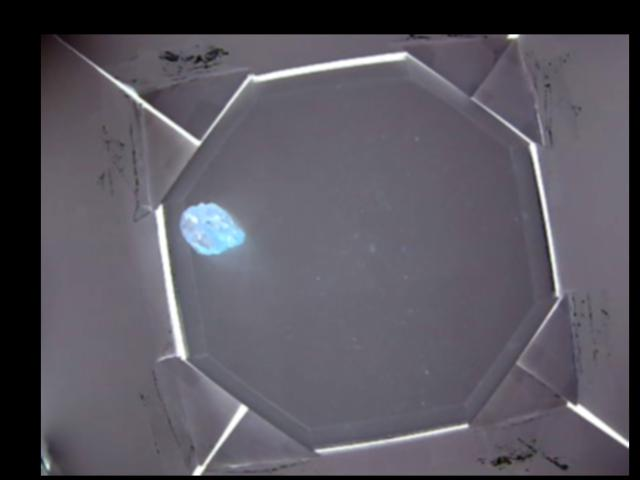Brisk: (183, 201, 242, 257)
